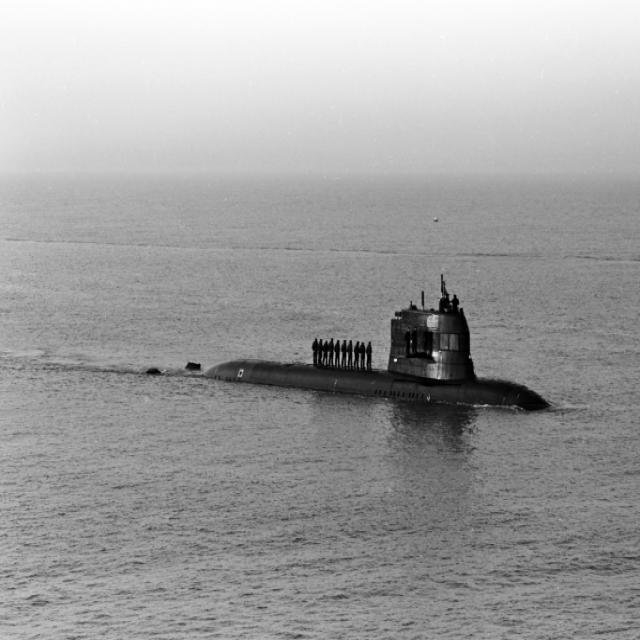submarine: (203, 272, 568, 414)
